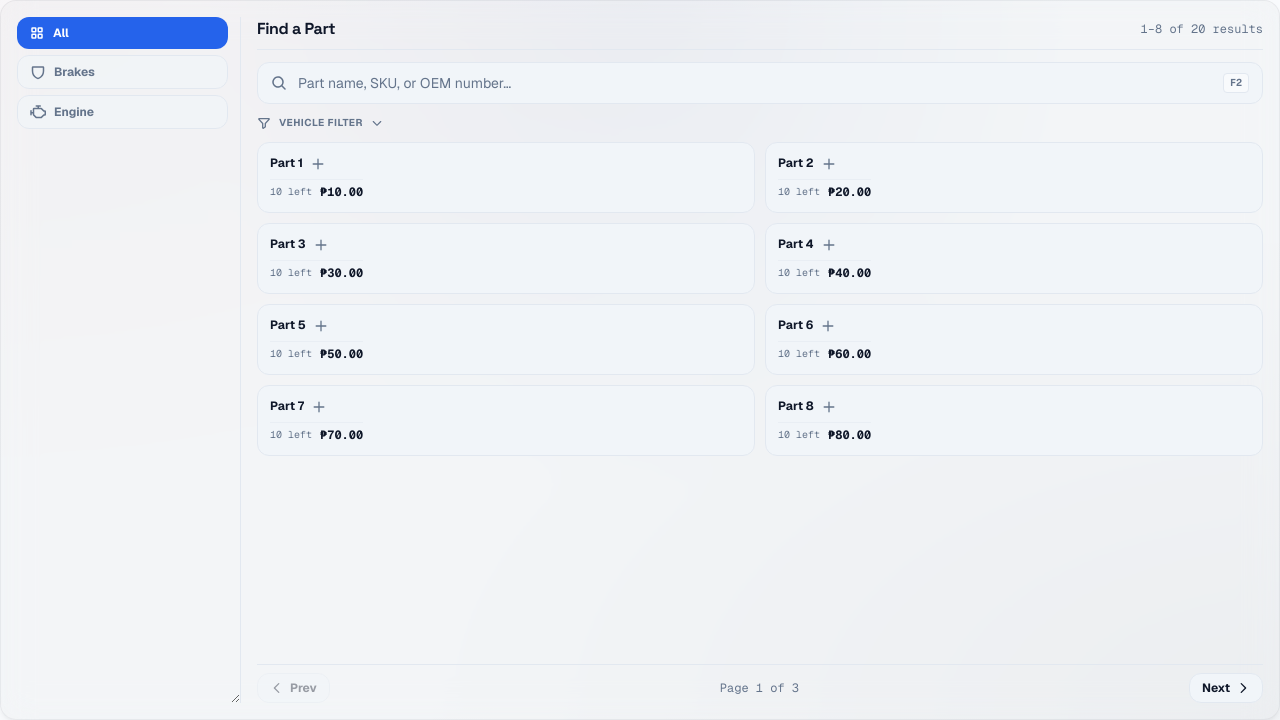
Test: PosCatalogPanel Component Tests › resets pagination to page 1 when search text changes
Click the button with aria-label "next page": (1226, 688) [1189,673,1263,703]
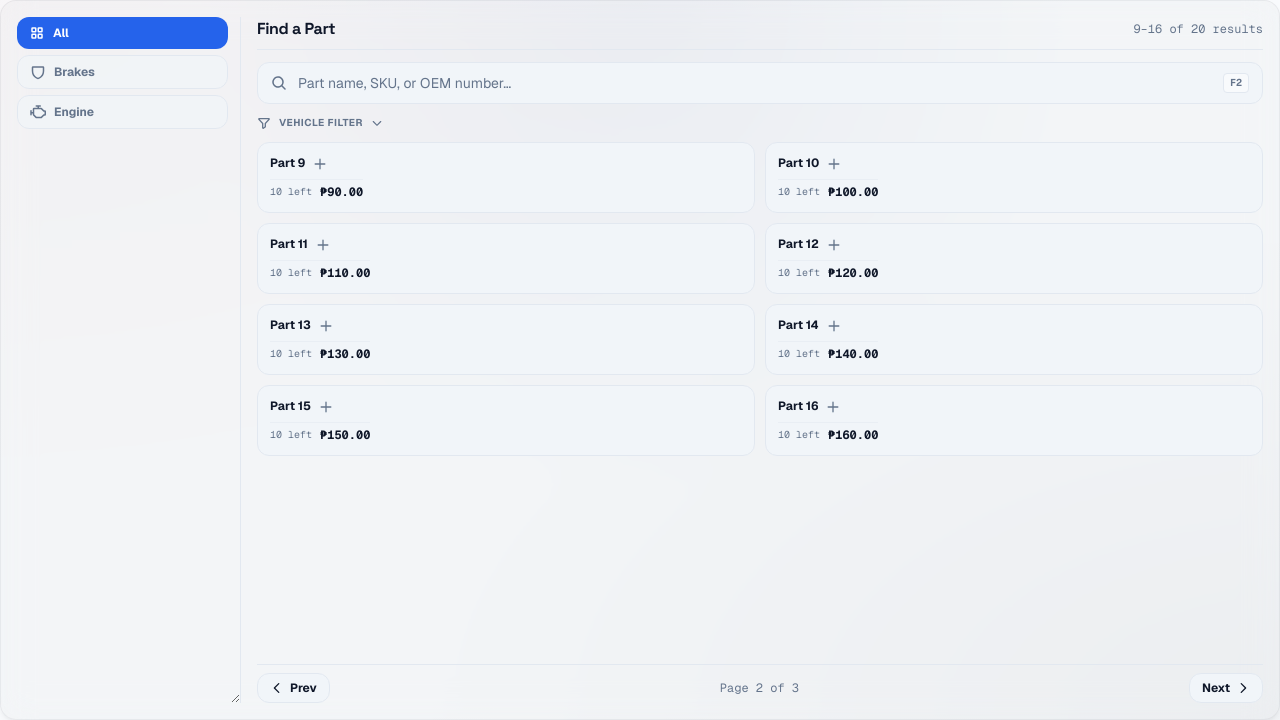
In the field named "search parts": (760, 83) [257,62,1263,104], type "Part 1"
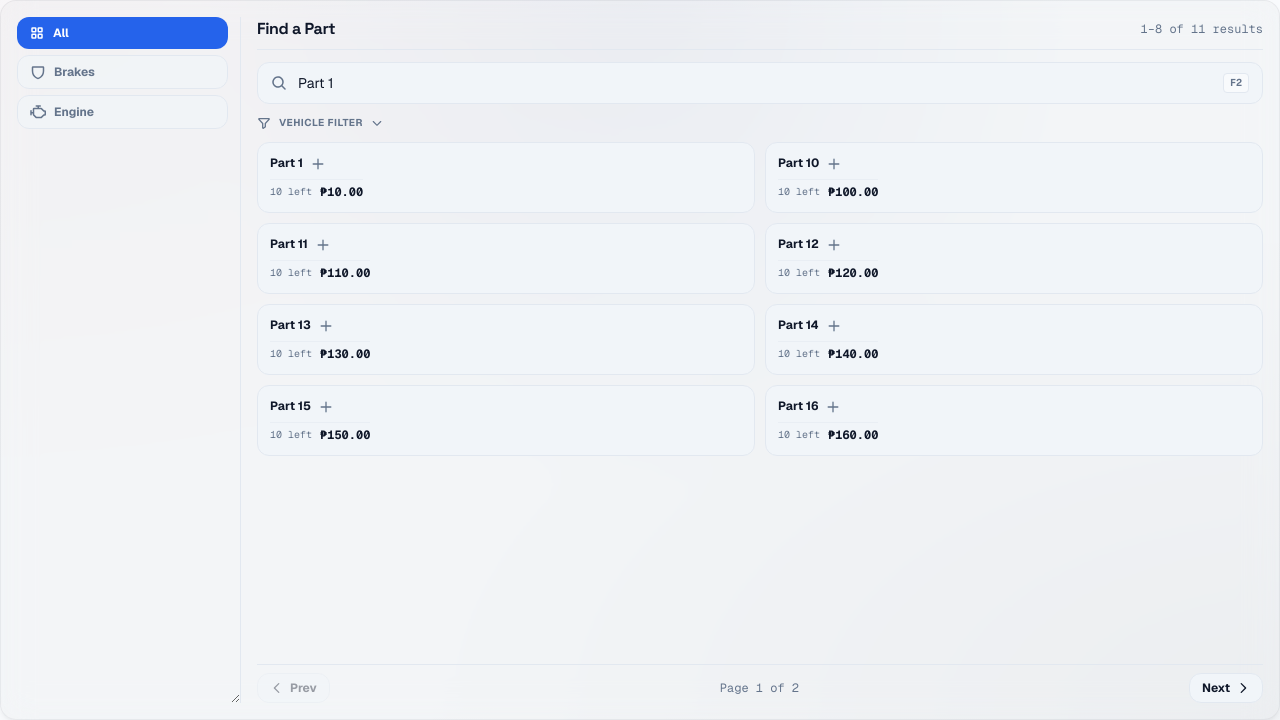
Expected: the button with aria-label "previous page" is disabled, [257,673,330,703]
